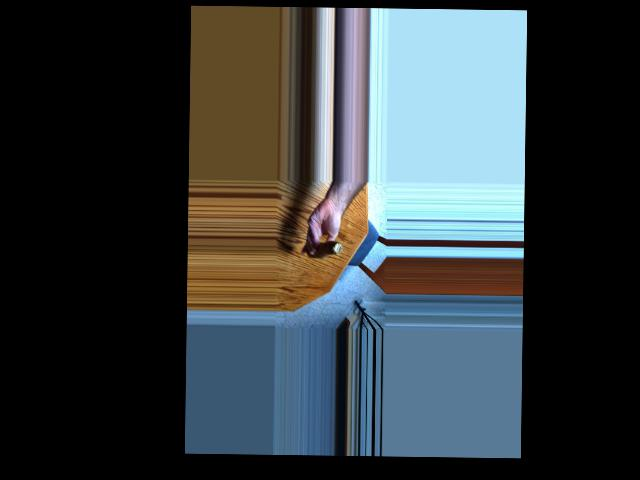sweet_potato: (305, 231, 347, 260)
